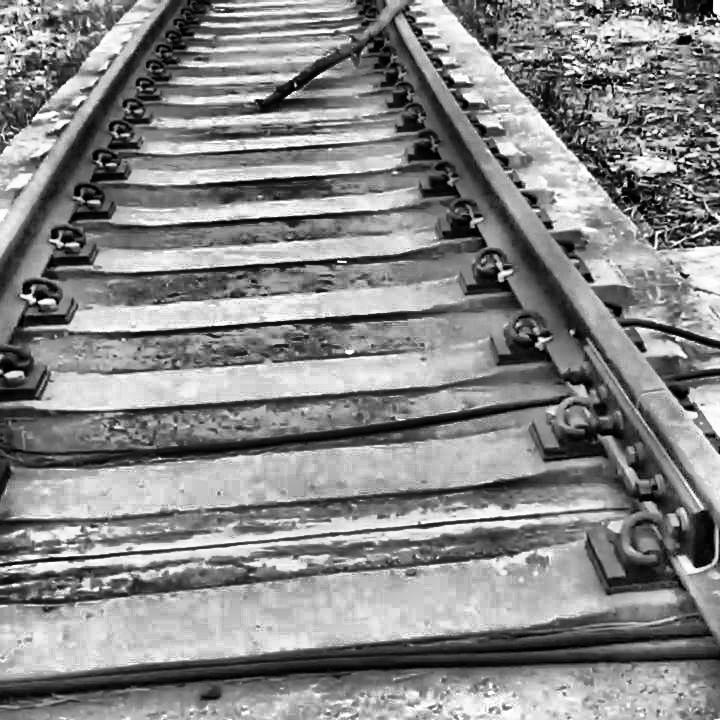Trash: (245, 0, 421, 116)
